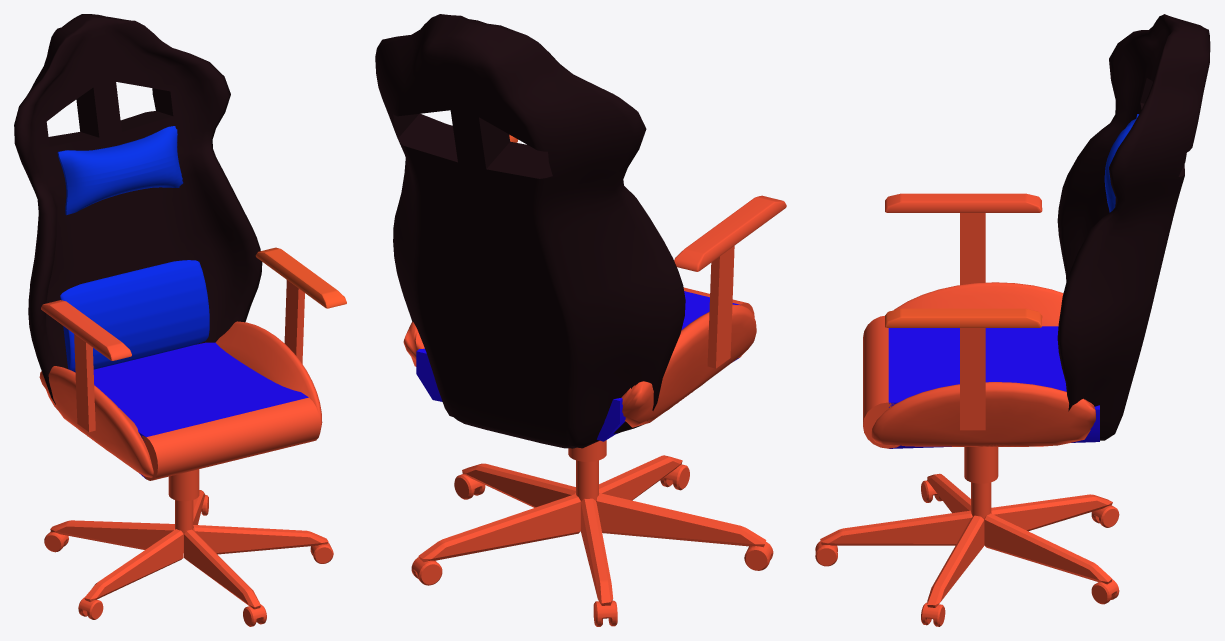
Rendered from KursiGaming.glb.
3 renders of one model, left to right at view 1: azimuth 30°, elevation 25°; view 2: azimuth 150°, elevation 25°; view 3: azimuth 270°, elevation 25°, orthographic. The views are drawn at different scales.
Parts seen in each view (by area): view 1: Kursi Gaming.012, Kursi Gaming.015, Kursi Gaming.014, Kursi Gaming.013, Kursi Gaming.016, Kursi Gaming.017, Kursi Gaming.018, Kursi Gaming.019, Kursi Gaming.001, Kursi Gaming.005, Kursi Gaming.007, Kursi Gaming.003 (+6 smaller); view 2: Kursi Gaming.012, Kursi Gaming.016, Kursi Gaming.005, Kursi Gaming.009, Kursi Gaming.023, Kursi Gaming.020, Kursi Gaming.001, Kursi Gaming.015, Kursi Gaming.007, Kursi Gaming.003, Kursi Gaming.025, Kursi Gaming.010 (+2 smaller); view 3: Kursi Gaming.012, Kursi Gaming.018, Kursi Gaming.015, Kursi Gaming.016, Kursi Gaming.003, Kursi Gaming.009, Kursi Gaming.023, Kursi Gaming.022, Kursi Gaming.021, Kursi Gaming.007, Kursi Gaming.001, Kursi Gaming.020 (+6 smaller).
Part boxes in pixels (x1,y1,x2,y2): Kursi Gaming.012: (14,14,262,404); Kursi Gaming.015: (93,342,308,478); Kursi Gaming.014: (60,260,209,372); Kursi Gaming.013: (57,126,183,215); Kursi Gaming.016: (39,366,153,477); Kursi Gaming.017: (141,417,239,480); Kursi Gaming.018: (215,321,322,431); Kursi Gaming.019: (227,397,320,460); Kursi Gaming.001: (193,525,328,554); Kursi Gaming.005: (84,529,183,601); Kursi Gaming.007: (50,520,174,549); Kursi Gaming.003: (184,529,260,609); Kursi Gaming.012: (375,14,685,448); Kursi Gaming.016: (621,304,756,427); Kursi Gaming.005: (596,493,766,547); Kursi Gaming.009: (418,494,580,562); Kursi Gaming.023: (674,195,786,271); Kursi Gaming.020: (707,246,734,368); Kursi Gaming.001: (462,463,575,507); Kursi Gaming.015: (416,291,739,441); Kursi Gaming.007: (581,498,613,605); Kursi Gaming.003: (599,455,682,500); Kursi Gaming.025: (576,460,598,501); Kursi Gaming.010: (411,557,442,585); Kursi Gaming.012: (1057,14,1210,440); Kursi Gaming.018: (871,382,1095,446); Kursi Gaming.015: (888,326,1099,448); Kursi Gaming.016: (894,282,1063,326); Kursi Gaming.003: (820,510,972,545); Kursi Gaming.009: (984,513,1112,584); Kursi Gaming.023: (885,193,1042,212); Kursi Gaming.022: (885,308,1042,327); Kursi Gaming.021: (960,328,985,430); Kursi Gaming.007: (991,494,1112,531); Kursi Gaming.001: (927,515,984,607); Kursi Gaming.020: (960,213,985,284).
Bounding box in the file's own units: 67.23 × 125 × 83.17.
